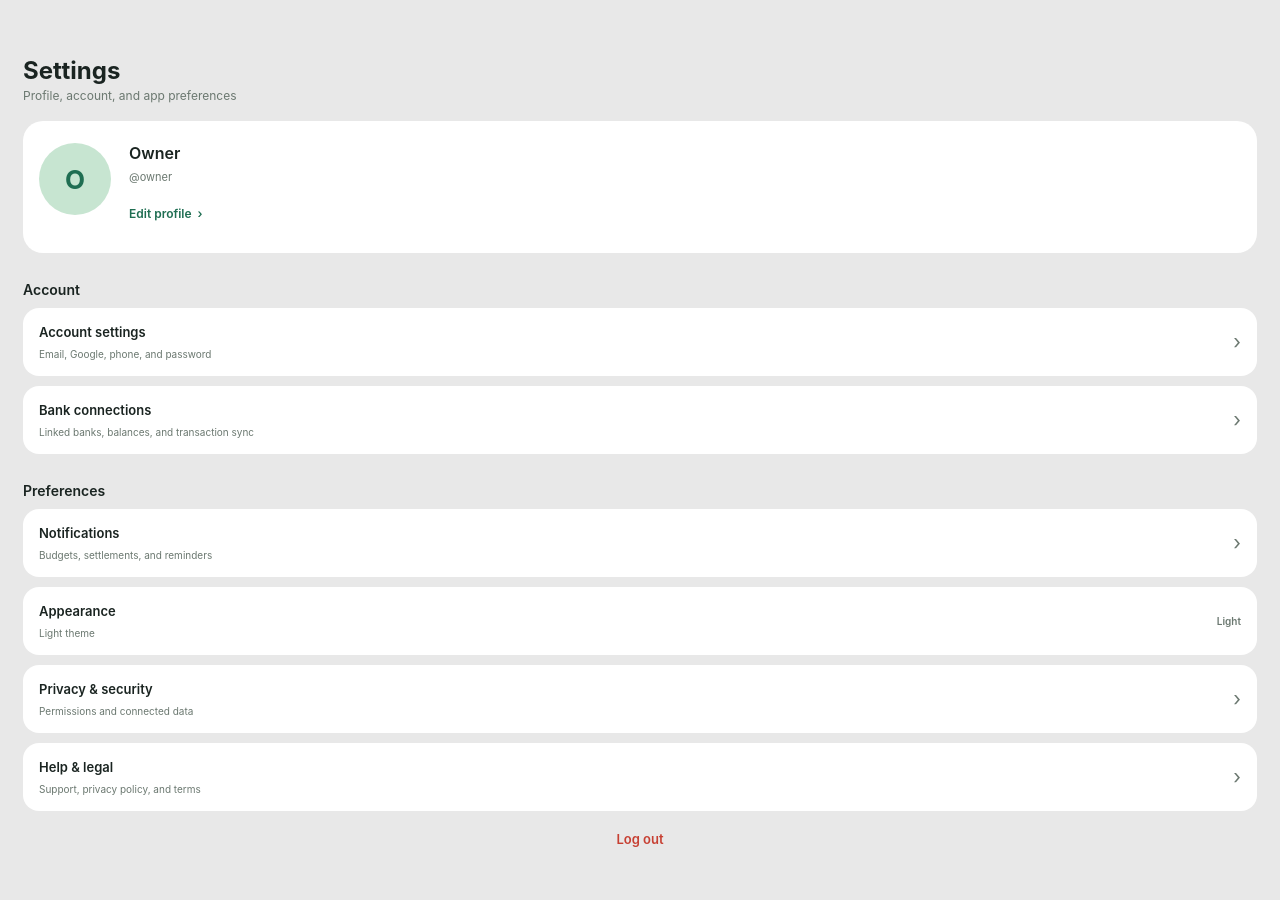
Test: password settings › explains password management for Google-only accounts
The width and height of the screenshot is (1280, 900).
Click the button "Account settings Email, Google, phone, and password ›" at (92, 332), box [23, 308, 1257, 376]
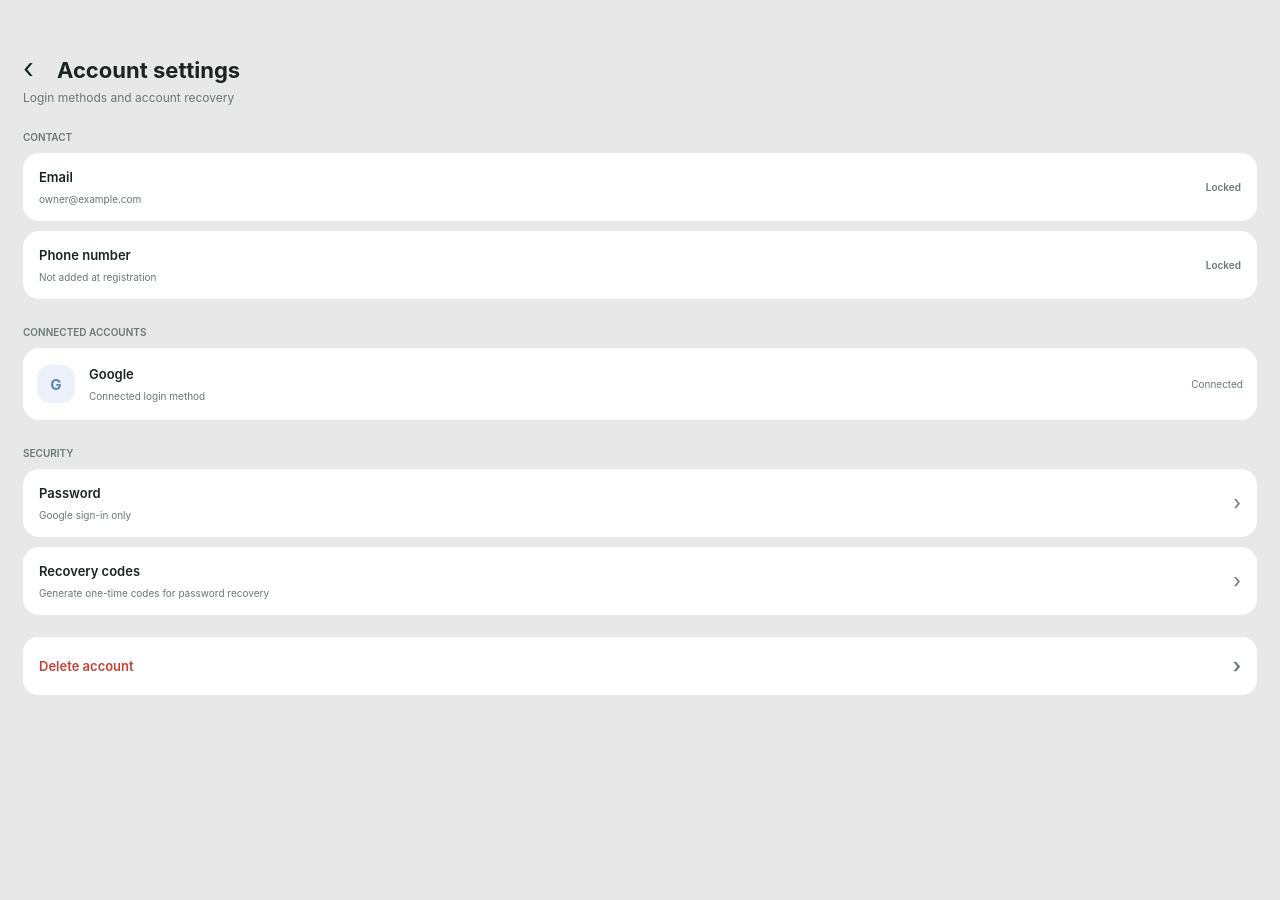
Click the button "Password Google sign-in only ›" at (70, 493), box [23, 469, 1257, 537]
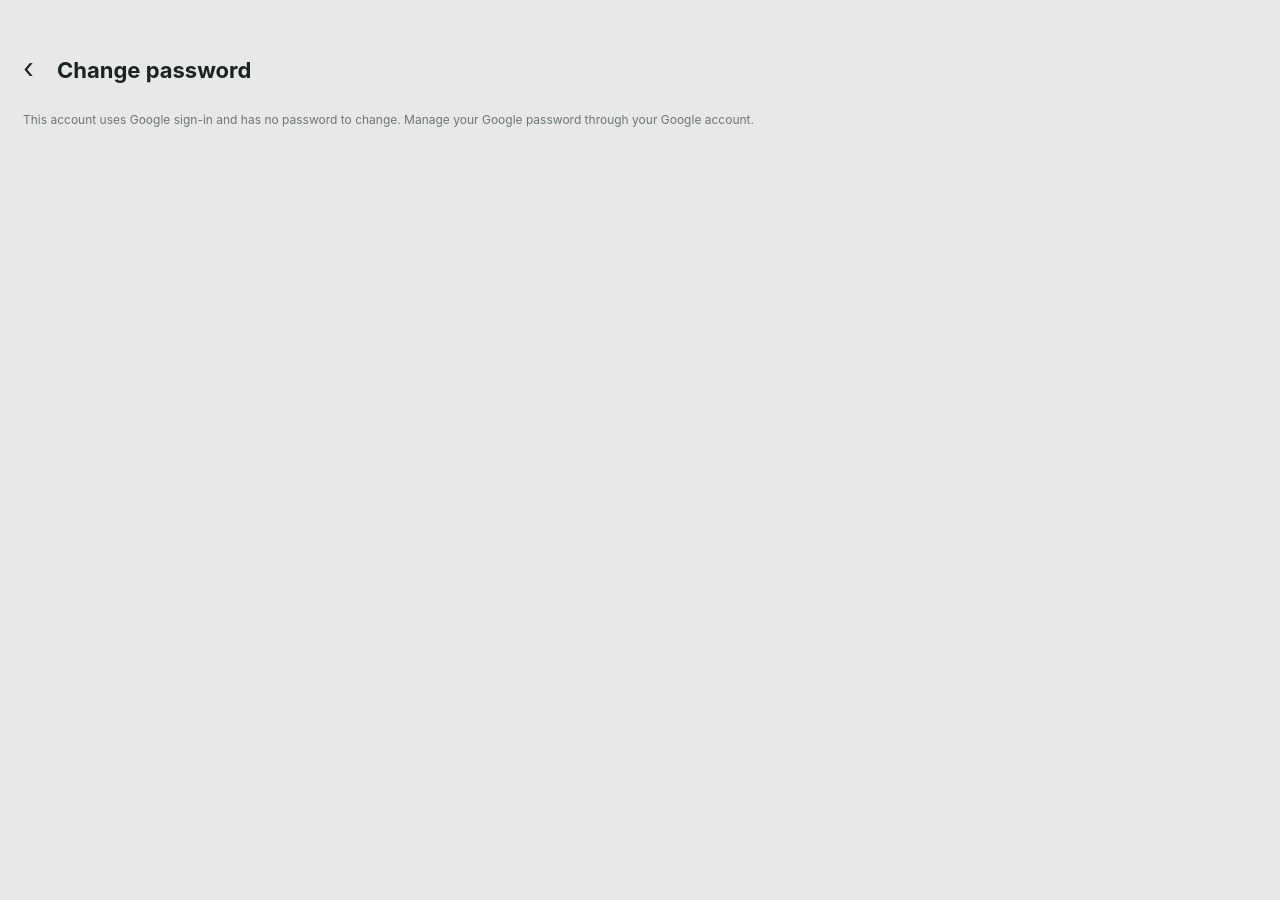
Now the text "Manage your Google password" is shown, box [23, 112, 754, 127]
